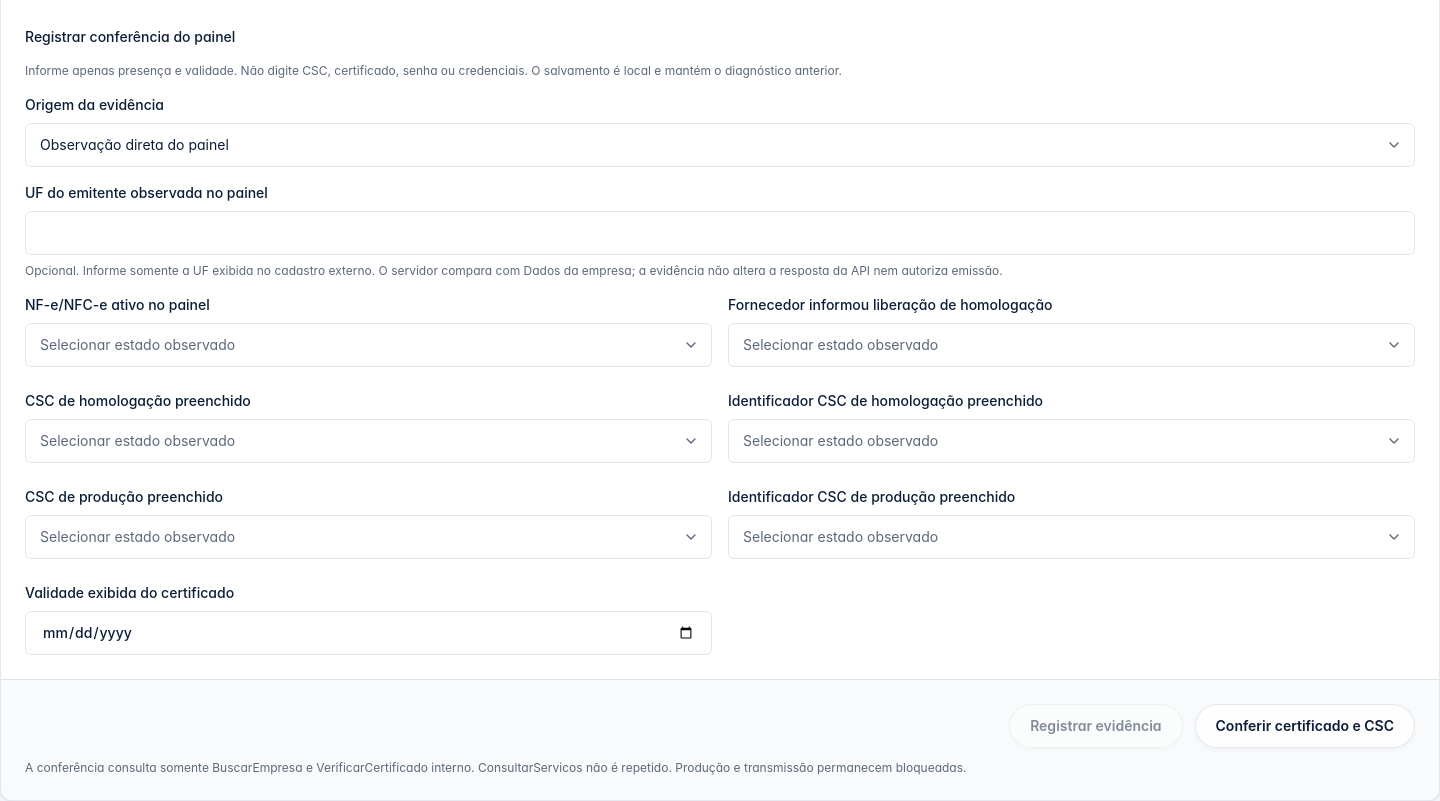
Pré-requisitos administrativos: ações explícitas e estados reais › entrada da data civil permanece no estado ao editar outro campo, sem salvar automaticamente
(page scrolled)
Type "2026-11-07" into the date field labelled "Validade exibida do certificado" at (368,633), box x1=25 y1=611 x2=712 y2=655
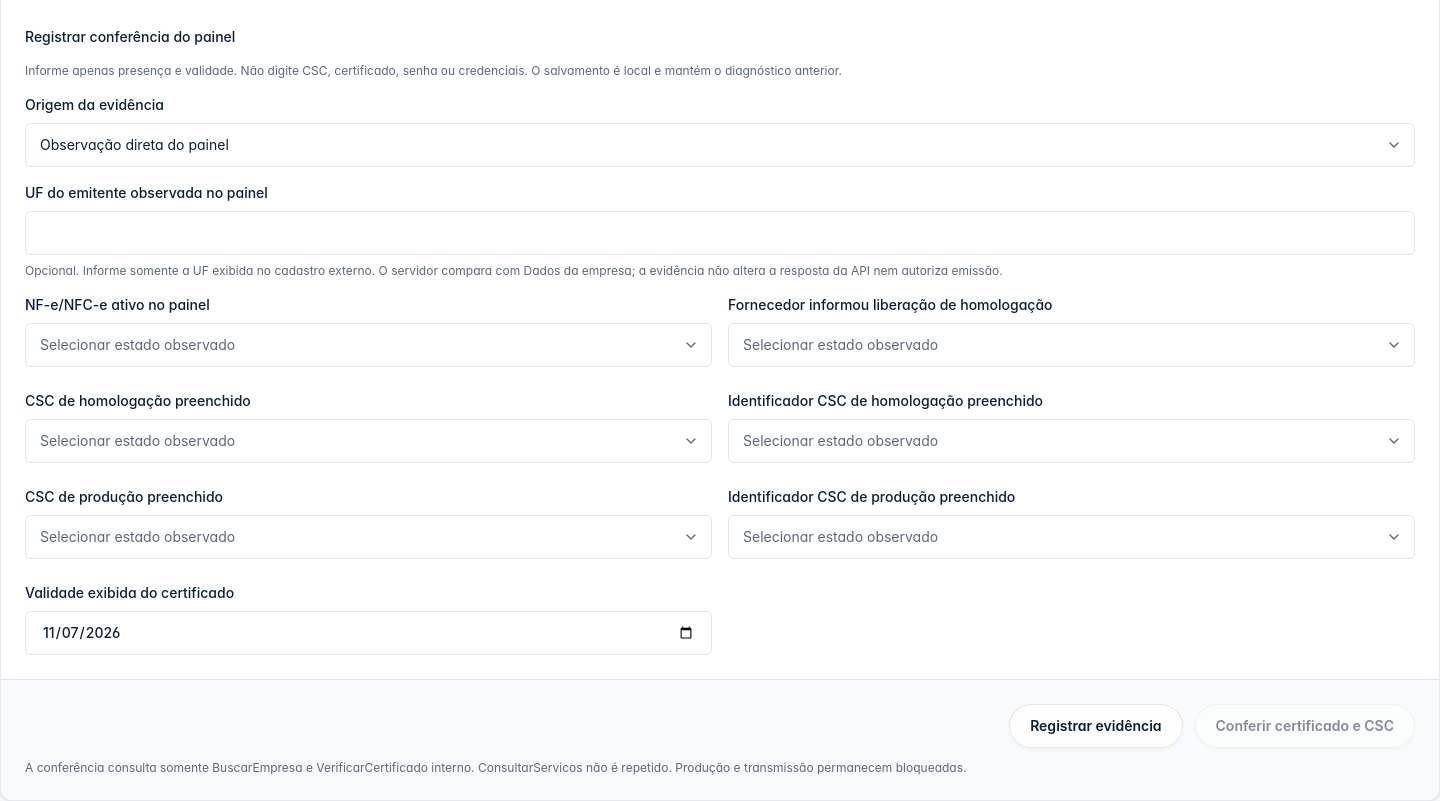
Type "SP" into the field labelled "UF do emitente observada no painel" at (720,233), box x1=25 y1=211 x2=1415 y2=255
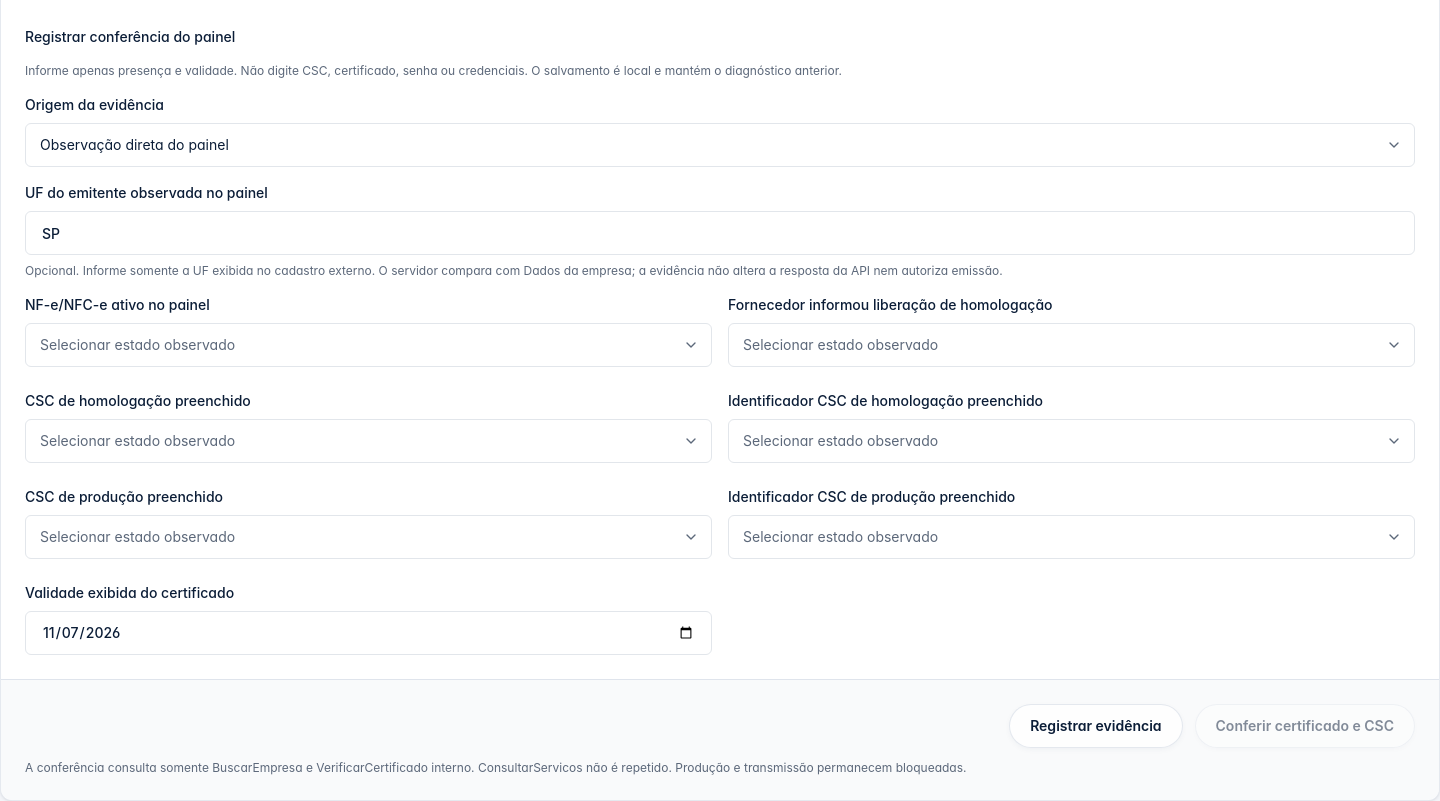
Click the button "Registrar evidência" at (1096,726), box x1=1009 y1=704 x2=1182 y2=748
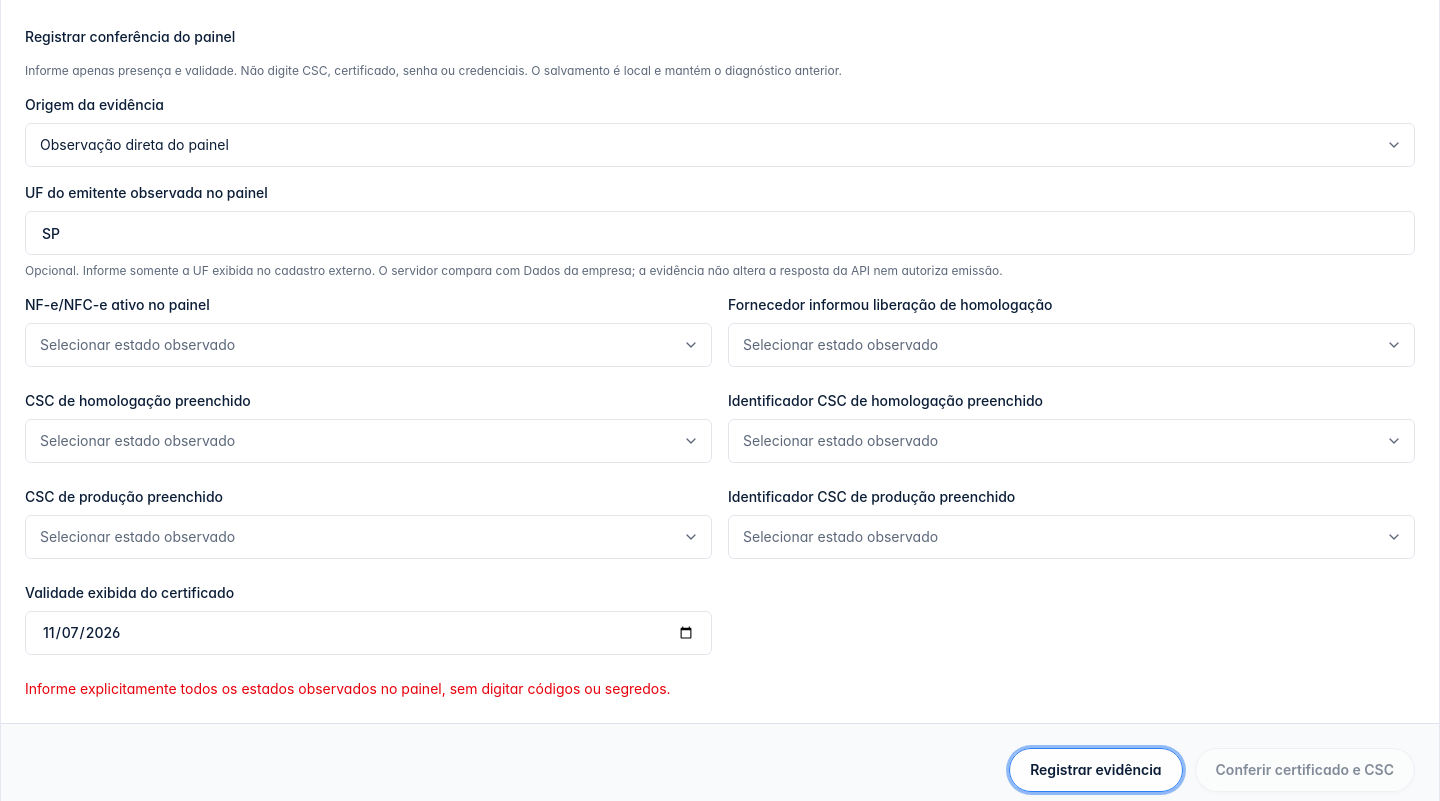
Check: the message shows "explicitamente", box x1=25 y1=680 x2=671 y2=697
